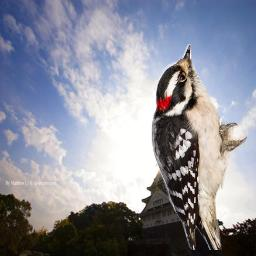Woodpecker: (151, 44, 247, 250)
